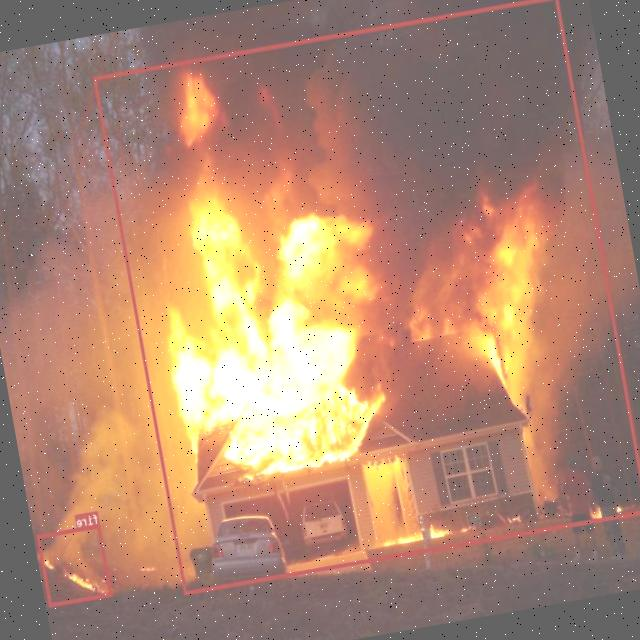fire: (93, 0, 640, 593), (36, 522, 112, 606)
